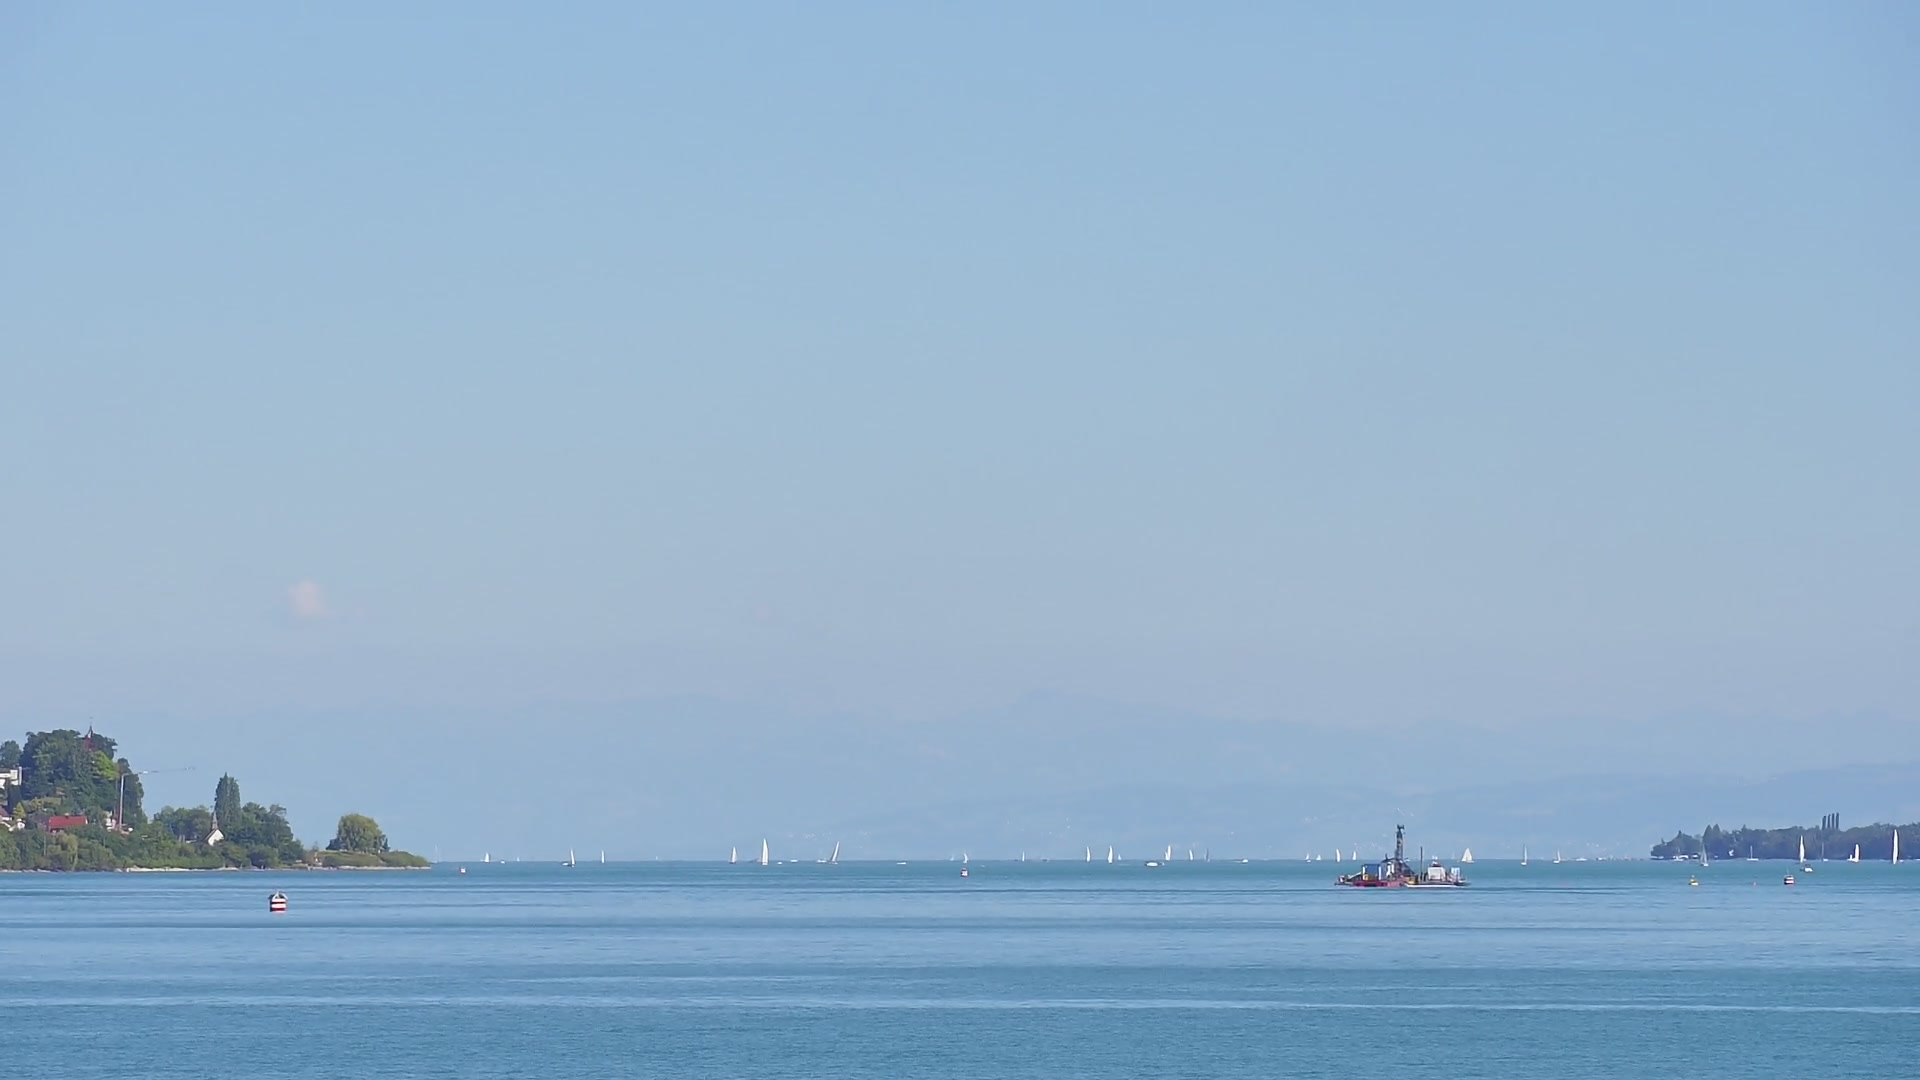sea: (825, 840, 840, 864), (1891, 828, 1899, 865), (761, 837, 769, 866), (1460, 848, 1474, 864), (1745, 845, 1759, 861), (1799, 835, 1807, 862), (1698, 844, 1708, 866), (1851, 843, 1859, 862), (1799, 864, 1815, 873), (568, 847, 575, 868), (1520, 844, 1527, 865), (728, 847, 736, 864), (1163, 844, 1171, 861), (1821, 841, 1828, 861), (1106, 845, 1113, 862), (1203, 847, 1209, 862), (1145, 861, 1164, 866), (1335, 847, 1341, 862), (1552, 851, 1560, 864), (483, 851, 491, 862), (1085, 847, 1091, 864), (600, 848, 605, 864), (961, 852, 968, 864), (1188, 848, 1193, 862), (1575, 856, 1588, 861), (815, 857, 827, 862), (1304, 853, 1311, 862), (1352, 851, 1357, 861), (1116, 853, 1122, 861), (1315, 853, 1321, 861), (1240, 857, 1247, 862), (1021, 851, 1025, 861)
